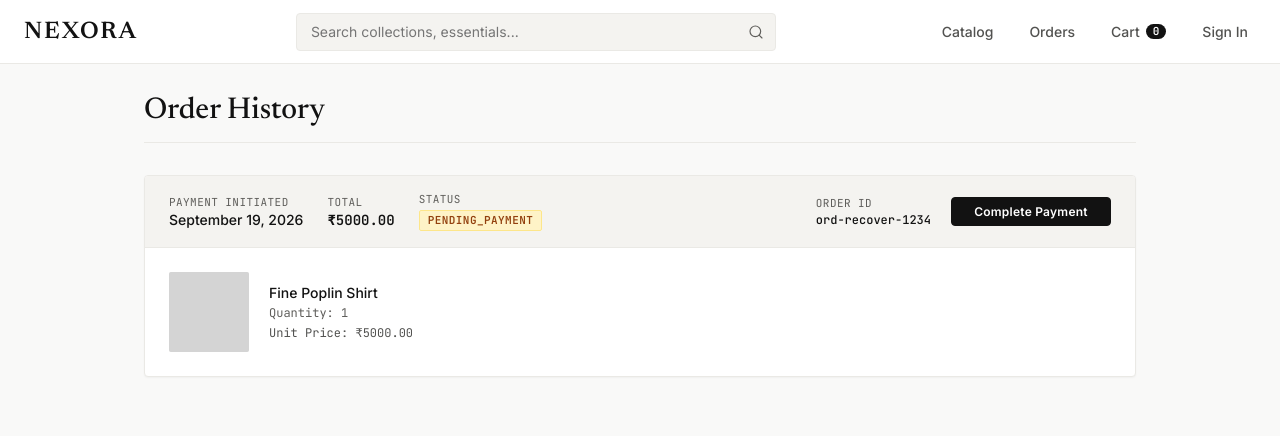
Test: OrdersPage component › Phase 07.25 — Pending Payment Recovery & Complete Payment Flow › handles unavailable window.Razorpay SDK safely without crashing and preserves PENDING_PAYMENT
Click the button "Complete Payment". click: (1031, 212)
box: [951, 197, 1111, 226]
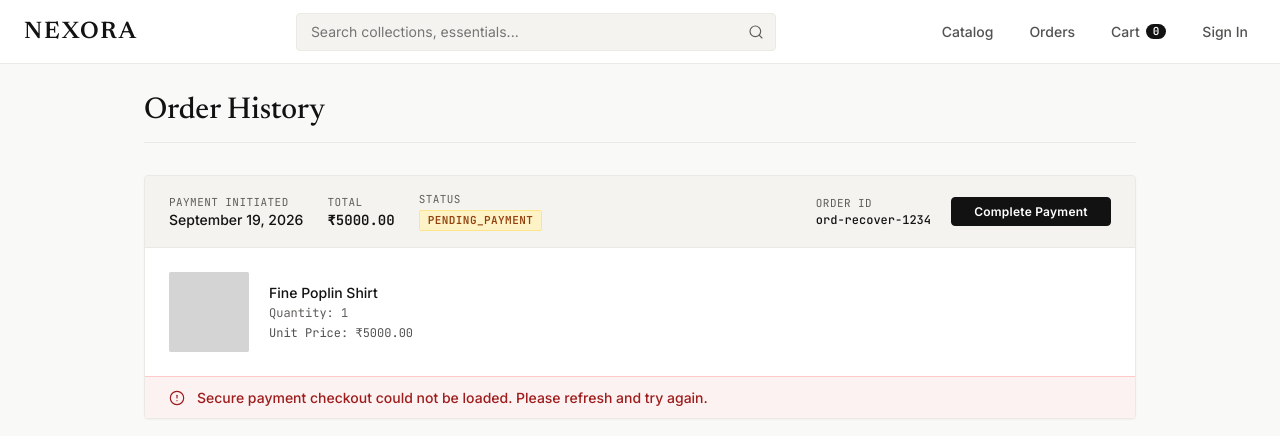
expect the text "PENDING_PAYMENT" is shown: met, box [419, 210, 542, 231]
expect the message "Secure payment checkout could not be loaded. Please refresh and try again." is shown: met, box [145, 376, 1135, 418]
expect the message shows "Secure payment checkout could not be loaded": met, box [197, 389, 708, 406]
